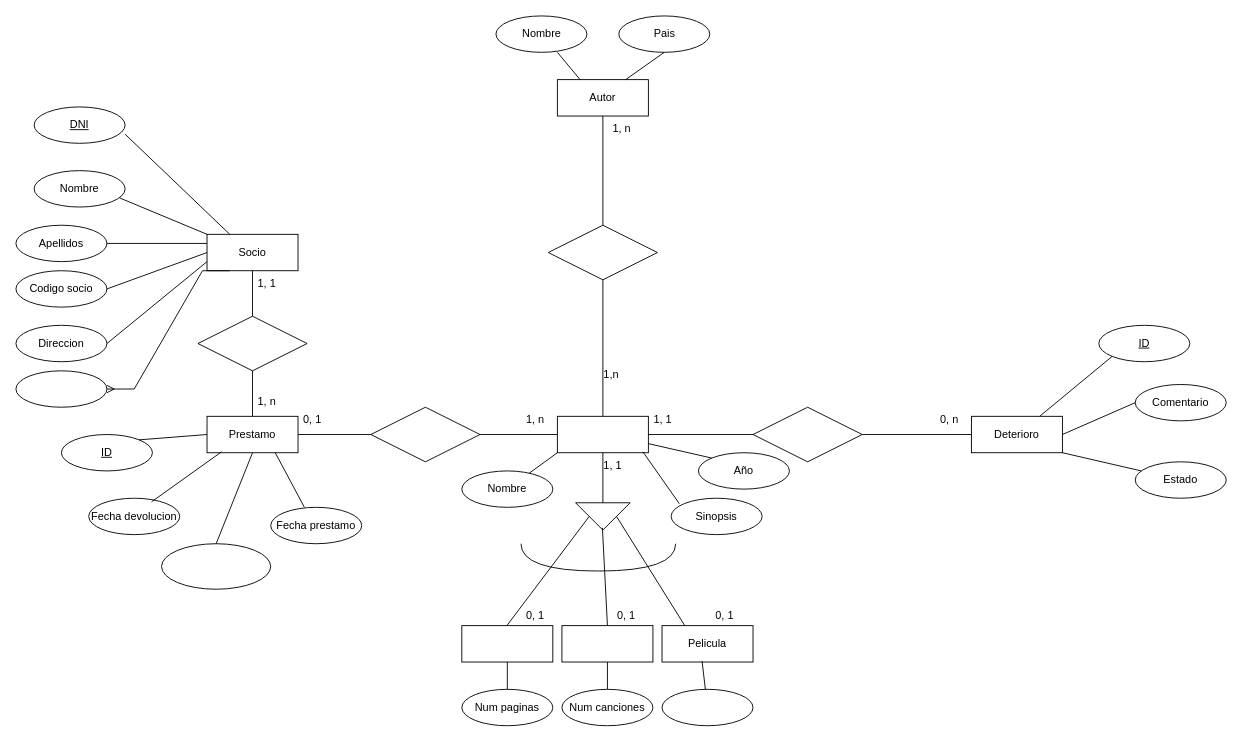
This 1242x742 diagram has some shape labels left out. Each missing label, with the centre of its shape:
"Articulo" belongs at (x=602, y=434).
"CD" belongs at (x=607, y=643).
"Crea" belongs at (x=602, y=252).
"Duracion" belongs at (x=707, y=707).
"Fecha devolucion real" belongs at (x=216, y=566).
"Libro" belongs at (x=507, y=643).
"Prestar" belongs at (x=425, y=434).
"Relationship" belongs at (x=807, y=434).
"Solicitar" belongs at (x=252, y=343).
"Telefono" belongs at (x=61, y=388).
